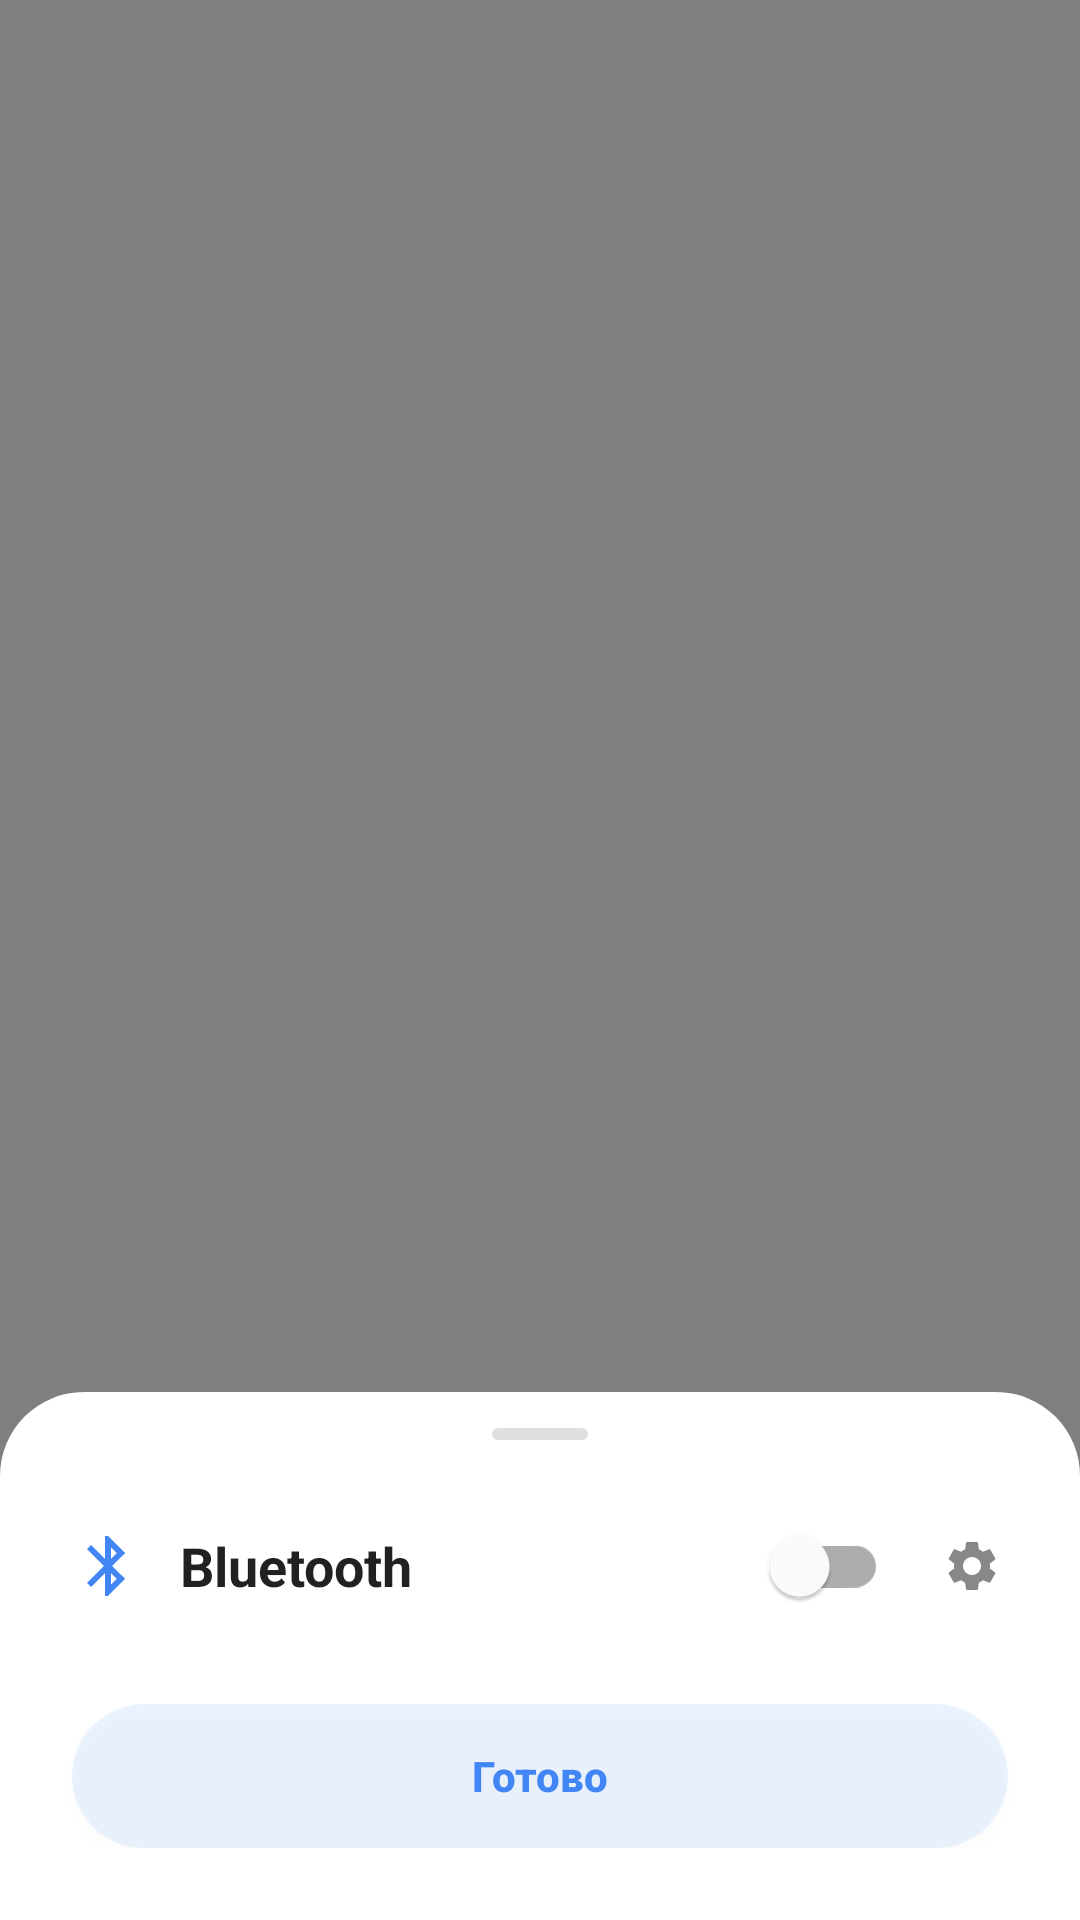

Named icons in this screenshot (1080*1920) and their bounding boxes, {"left": x1, "top": y1, "right": x2, "bottom": y2}:
Настройки: {"left": 948, "top": 1542, "right": 996, "bottom": 1590}
